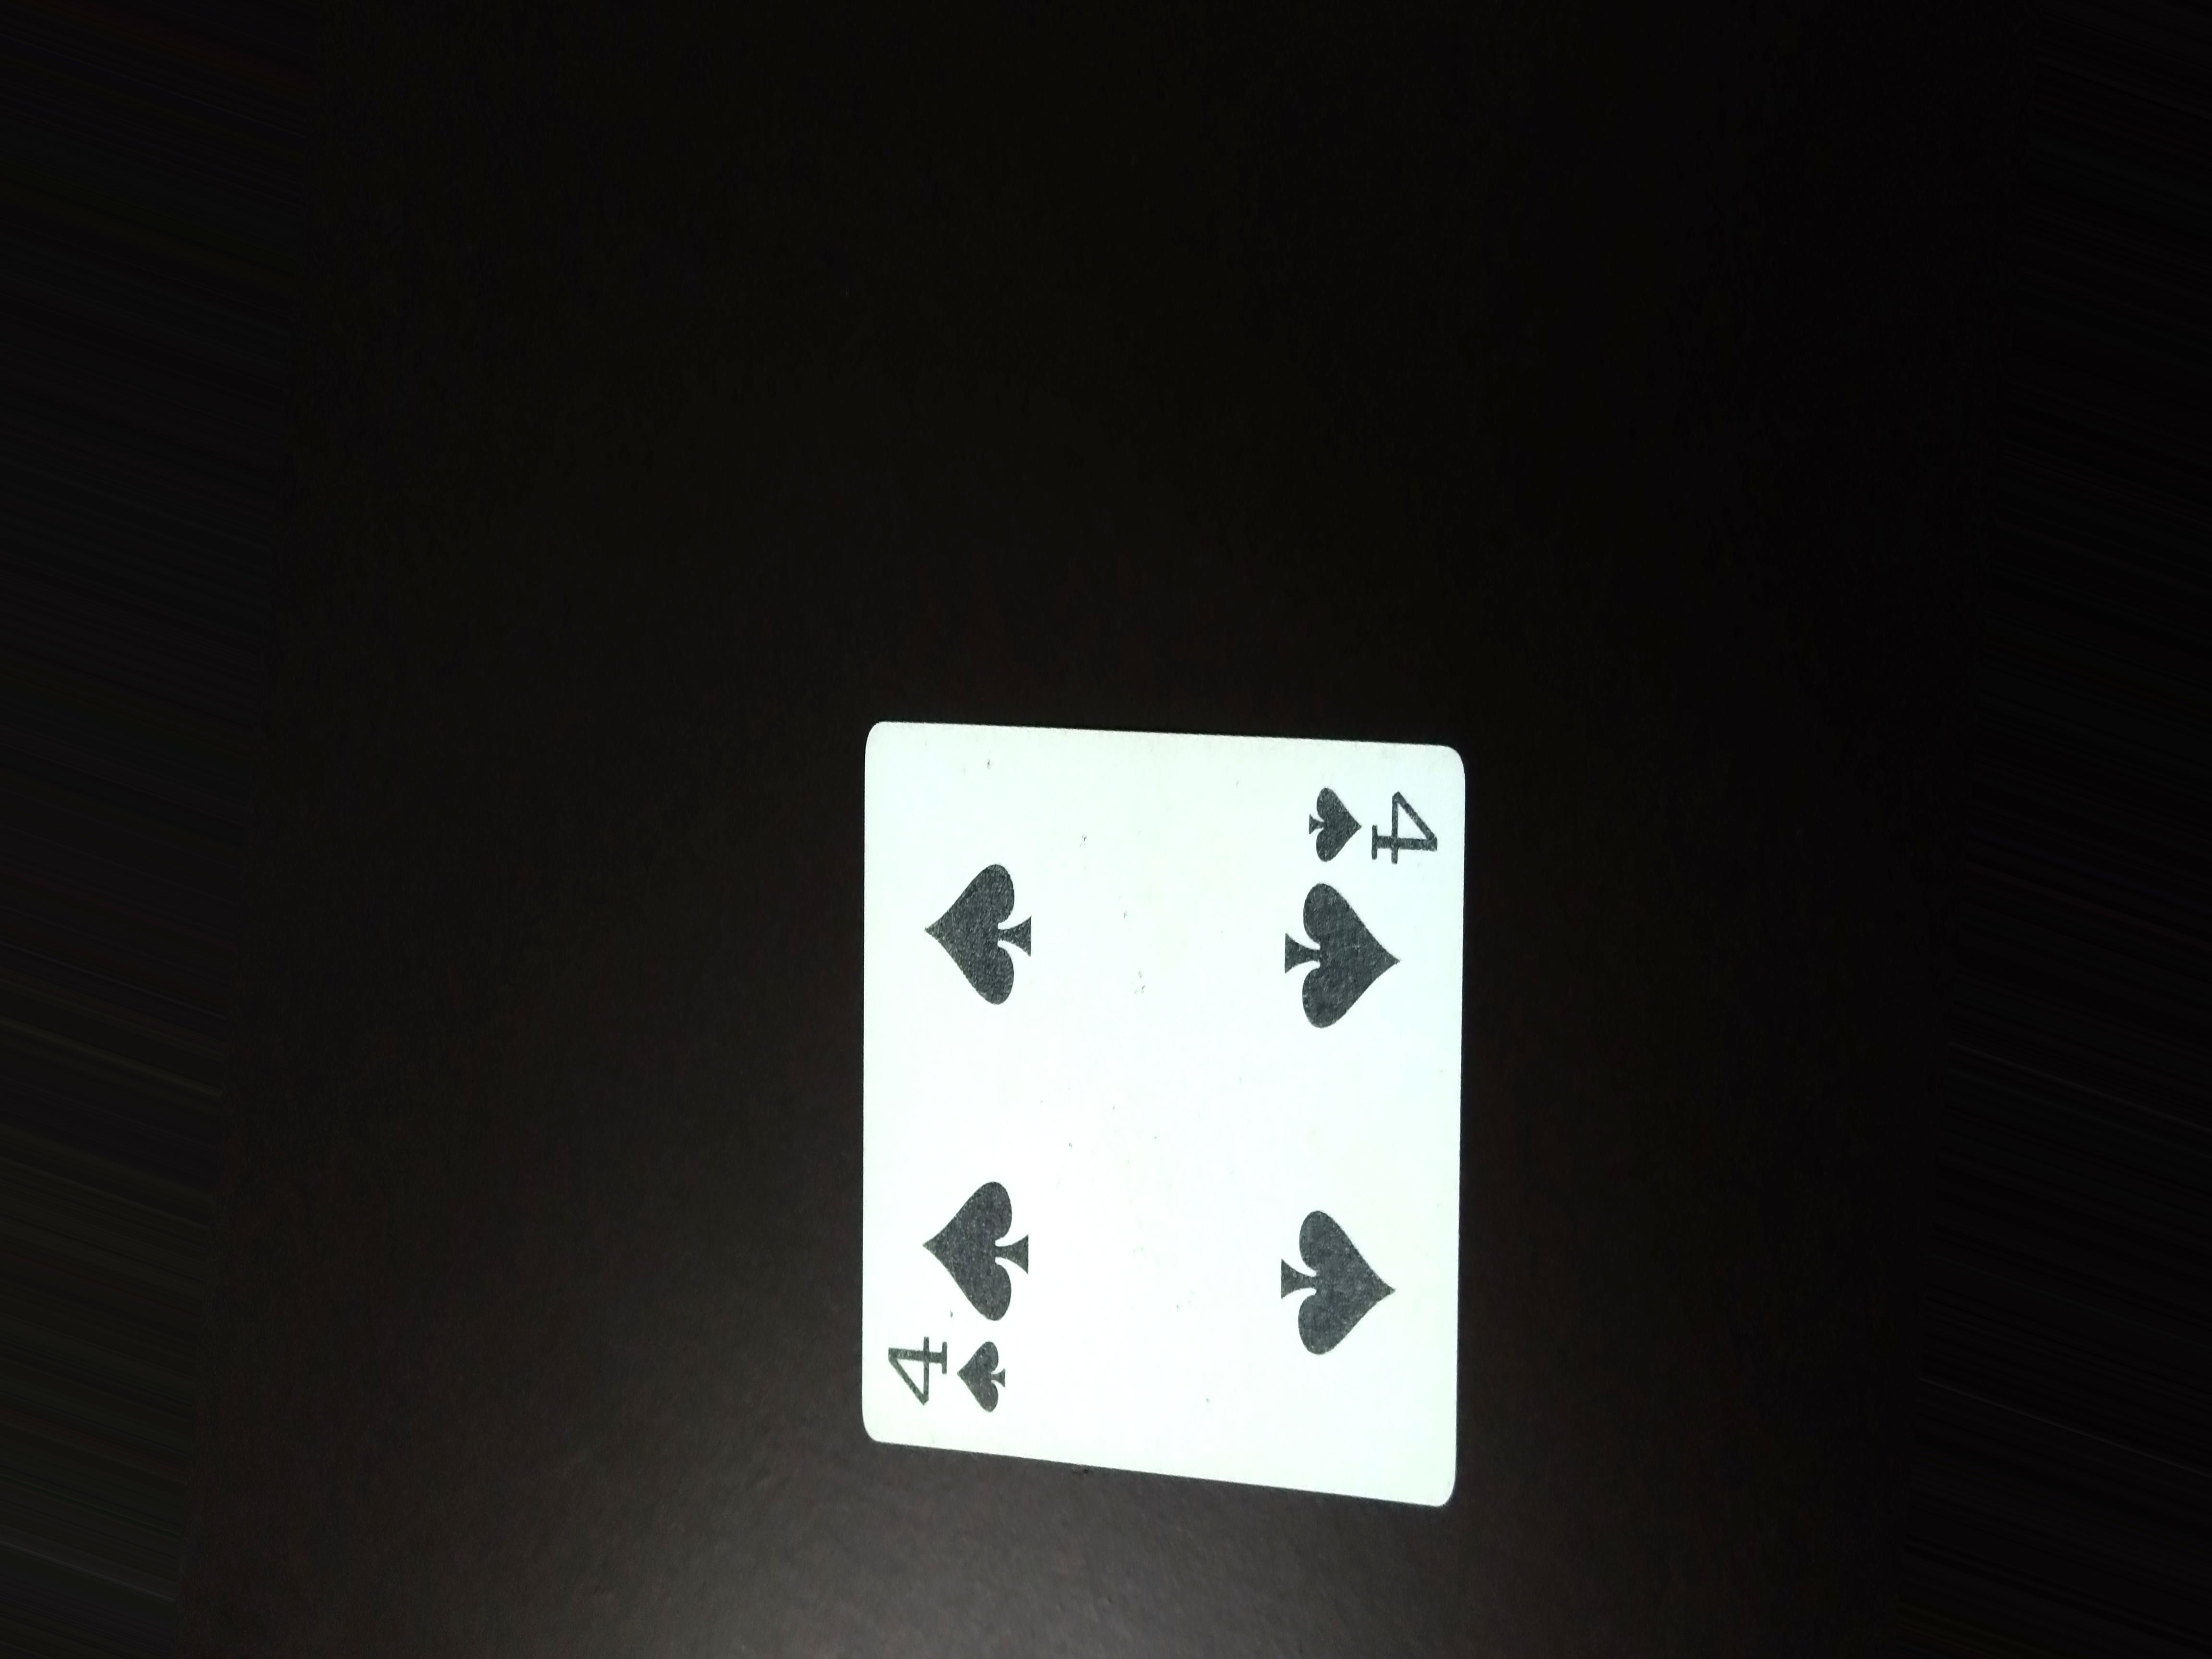4S: (864, 1328, 1042, 1432)
